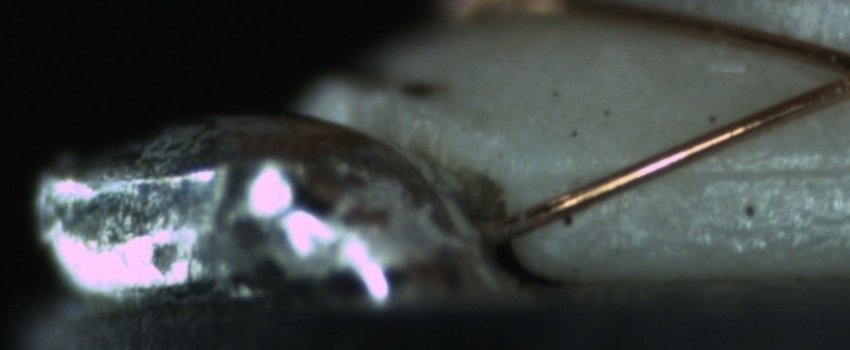DL: (683, 139, 845, 202)
